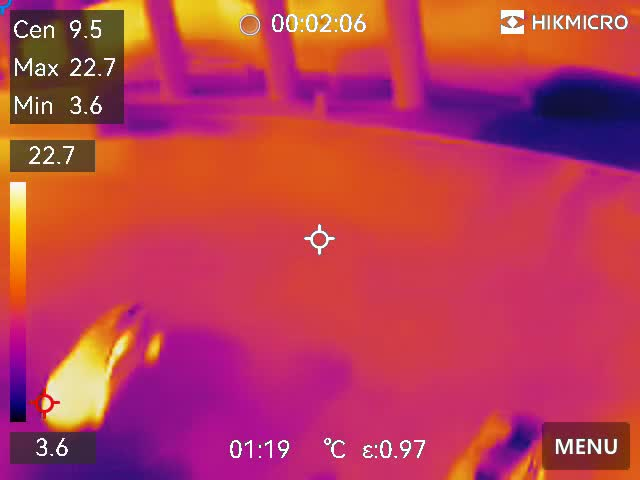vehicle: (25, 295, 167, 433), (446, 394, 566, 480)
